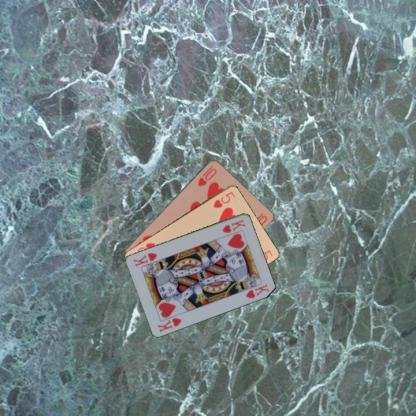10h: (195, 163, 218, 187)
5h: (210, 189, 236, 209)
Kh: (219, 216, 247, 234), (155, 315, 183, 333)
